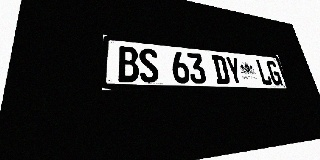3: (186, 52, 207, 84)
6: (170, 51, 191, 83)
B: (117, 46, 140, 82)
D: (211, 55, 231, 84)
G: (266, 60, 283, 85)
L: (255, 59, 273, 85)
S: (138, 48, 160, 83)
Y: (225, 56, 244, 85)
